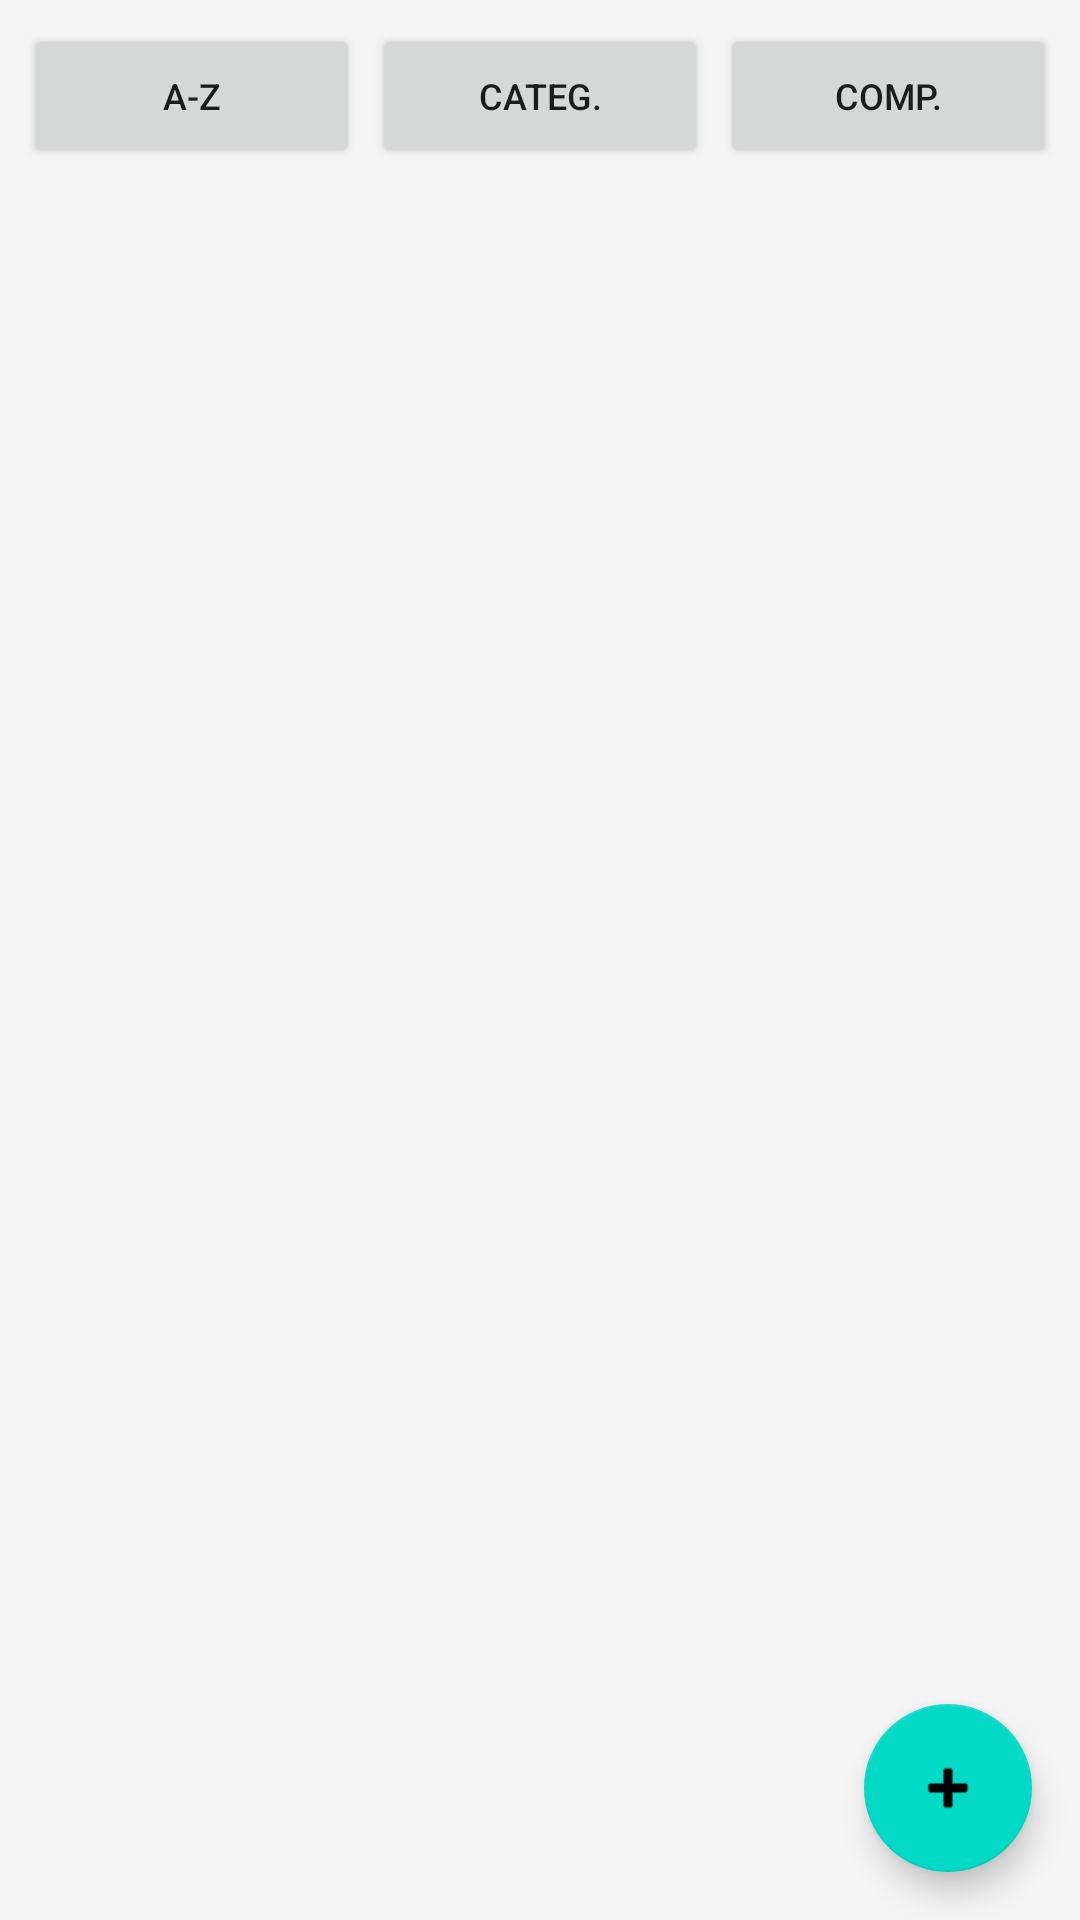

Named icons in this screenshot (1080px x 1920px) and their centers, (x,y):
Adicionar Produto: (948,1788)
